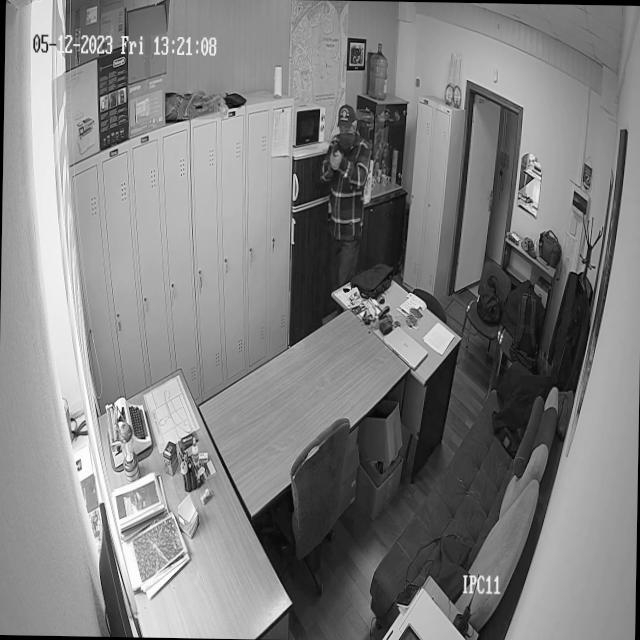gun: (331, 127, 341, 148)
person with a gun: (320, 98, 371, 270)
